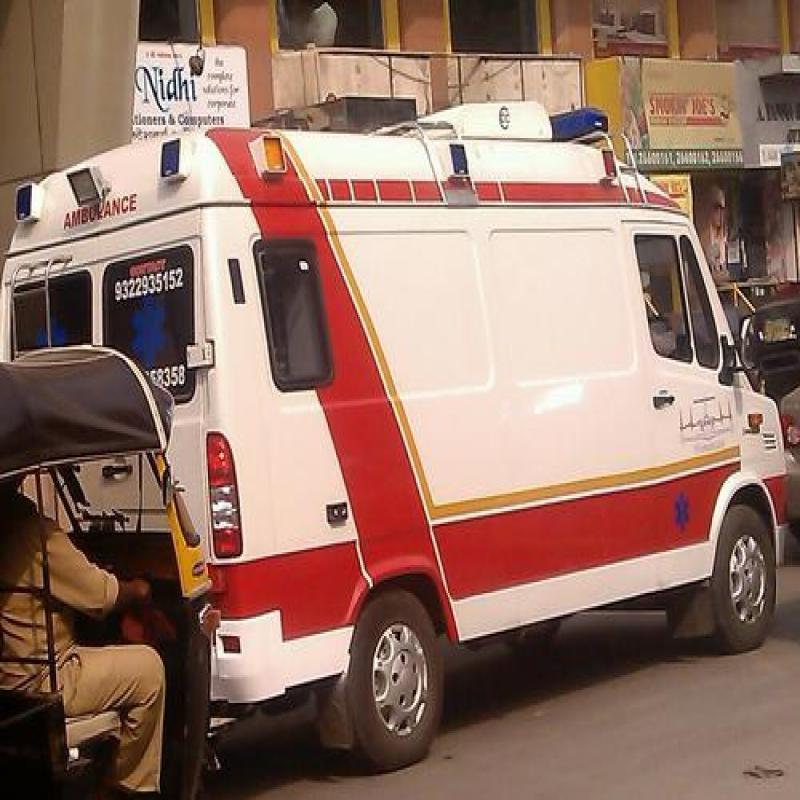ambulance: (9, 110, 800, 661)
